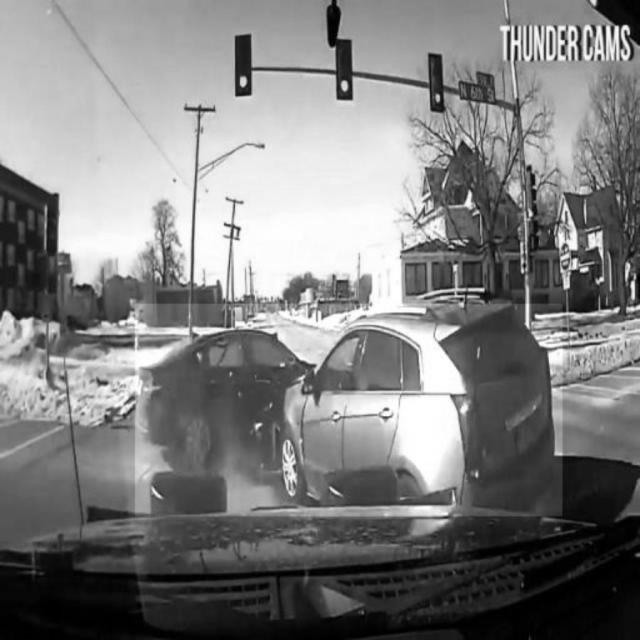accident: (135, 305, 563, 517)
